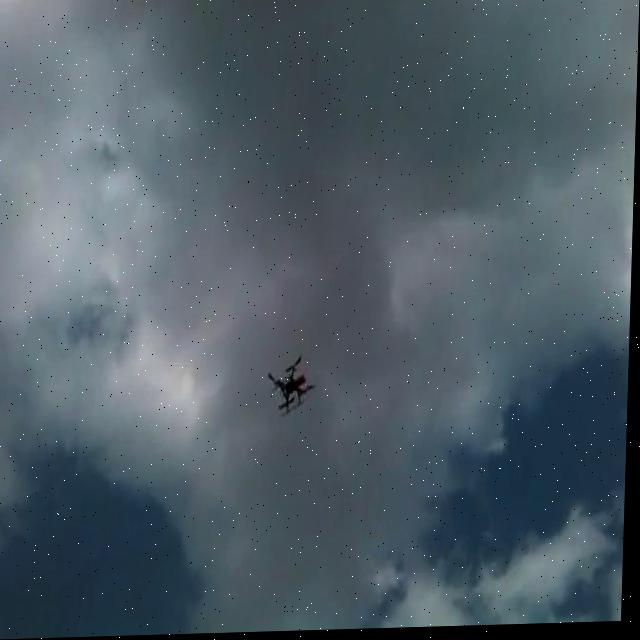drone: (269, 353, 321, 421)
